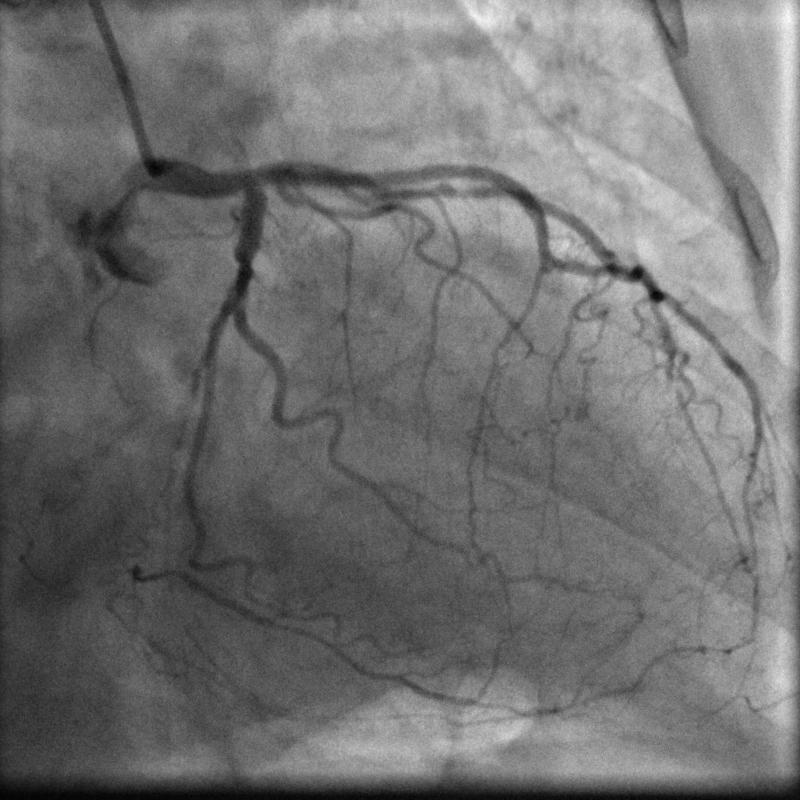Stenosis: (416, 177, 494, 202)
